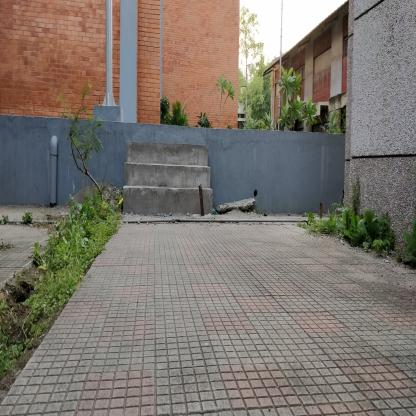stairs: (126, 116, 199, 225)
